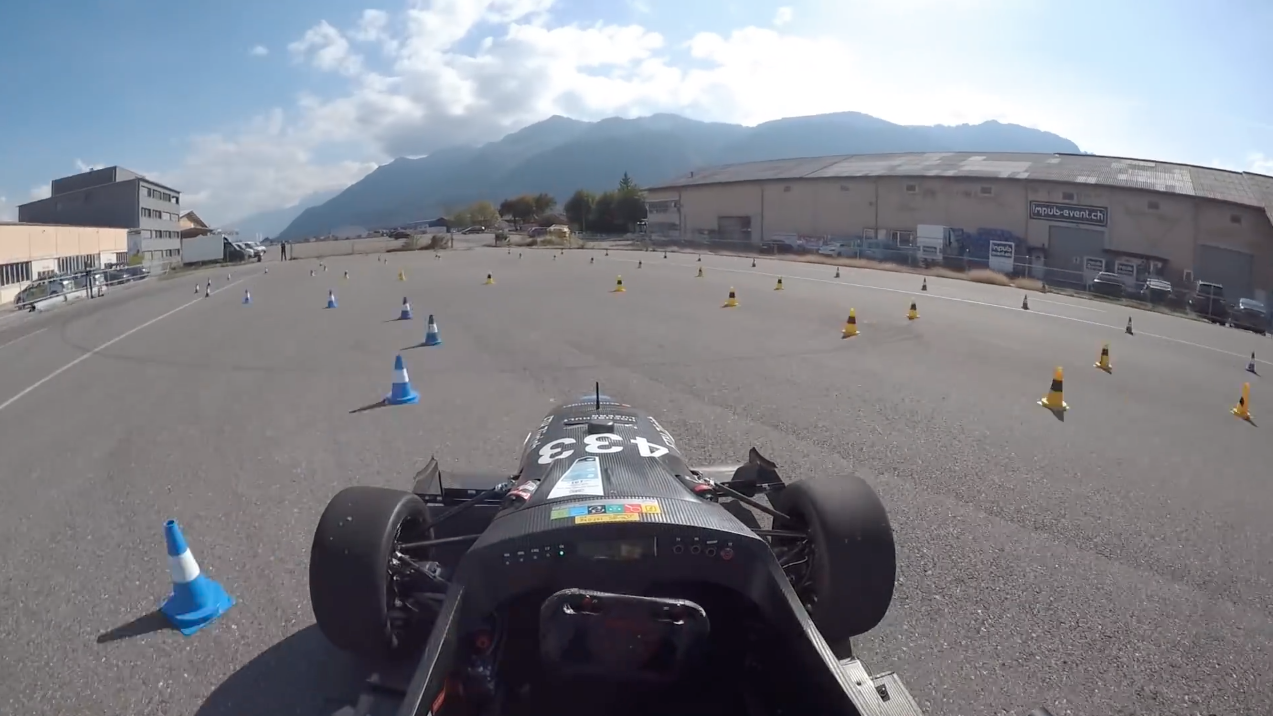lcone: (142, 517, 246, 640), (379, 350, 425, 407), (418, 310, 450, 353)
rcone: (1035, 363, 1077, 417), (1225, 379, 1259, 424), (835, 303, 863, 343), (1090, 339, 1117, 378)
